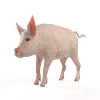heo: (12, 14, 86, 88)
